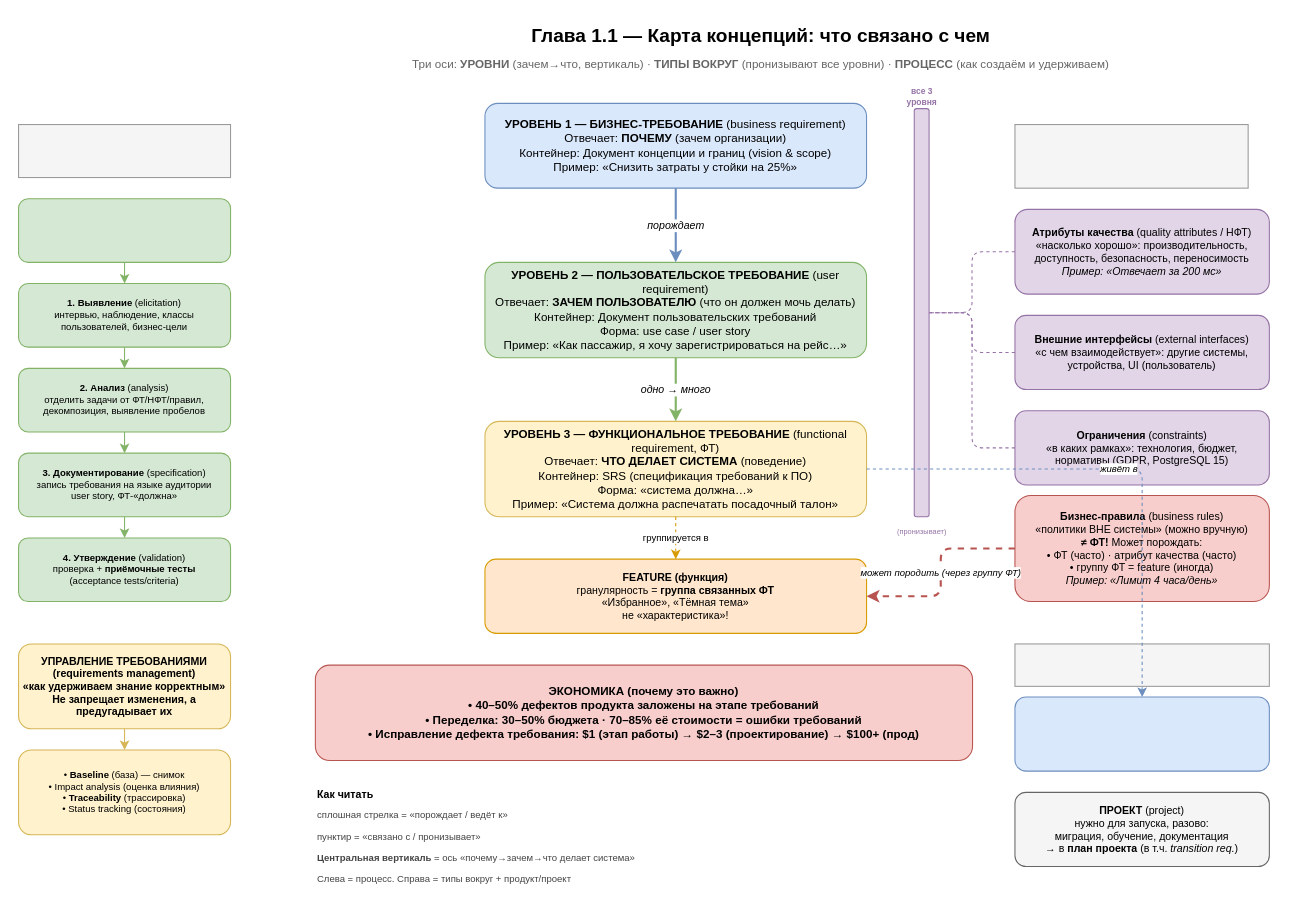
This 1309x905 diagram has some shape labels left out. Here are the shapes that lost their labels. From the top down, the centre of each, then its label:
(x=124, y=150): ОСЬ ПРОЦЕССА (как создаём и удерживаем)
(x=1131, y=155): ТИПЫ ВОКРУГ УРОВНЕЙ (пронизывают ВСЕ три уровня, не принадлежат одному)
(x=124, y=230): РАЗРАБОТКА ТРЕБОВАНИЙ (requirements development) «как создаём знание»
(x=1141, y=664): ПРОДУКТ vs ПРОЕКТ (куда записать)
(x=1141, y=733): ПРОДУКТ (product) останется после релиза: код, фичи, атрибуты качества → в SRS
